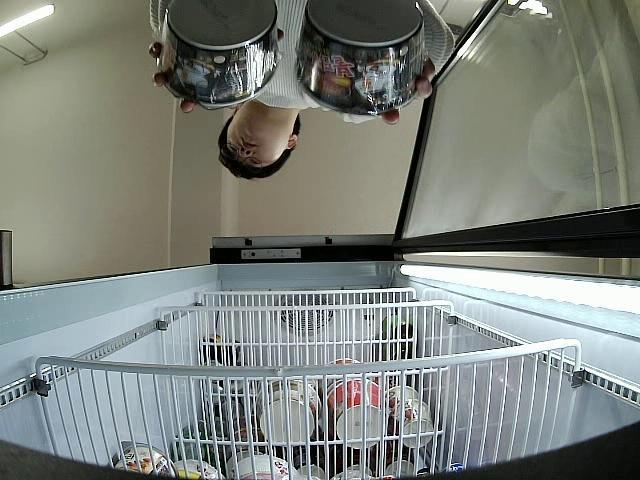07_buldak_L: (292, 0, 430, 119), (158, 0, 279, 107)
